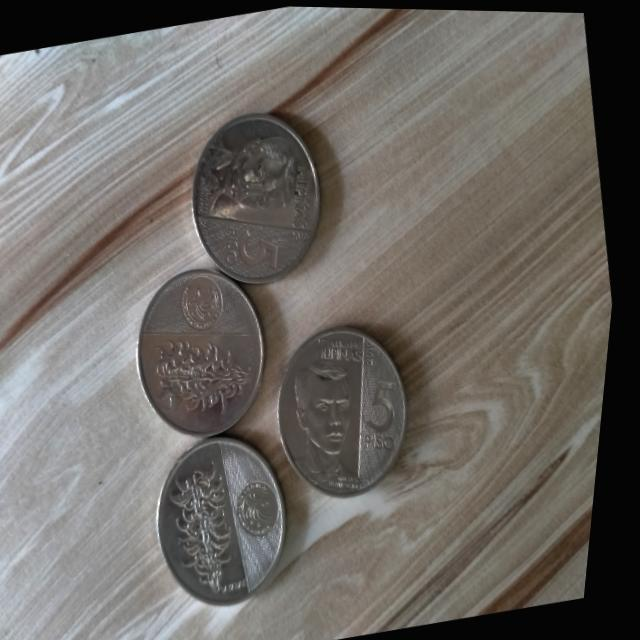5_New_Back: (158, 450, 263, 609), (142, 320, 277, 435)
5_New_Front: (213, 206, 299, 290), (355, 367, 423, 465)
